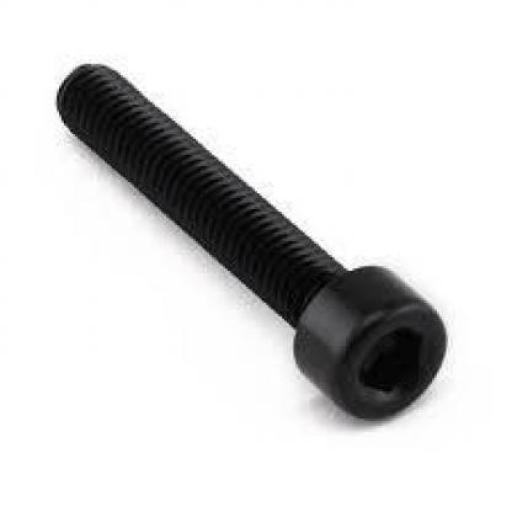Bolt: (55, 63, 449, 423)
